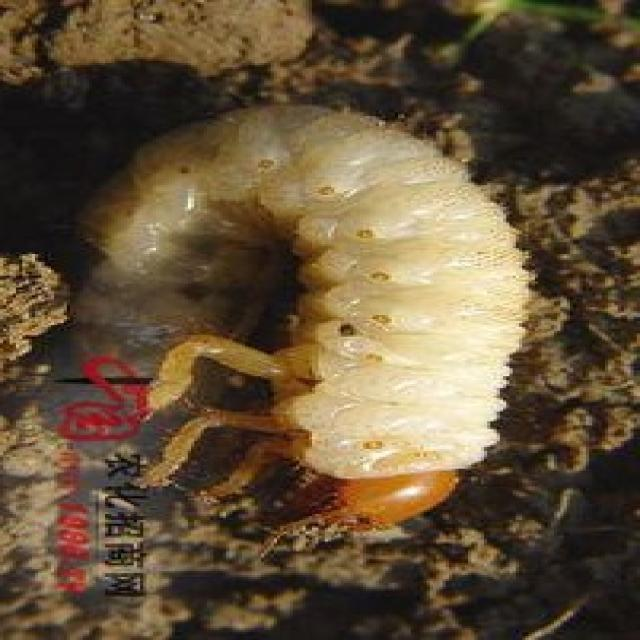grub: (63, 103, 525, 533)
